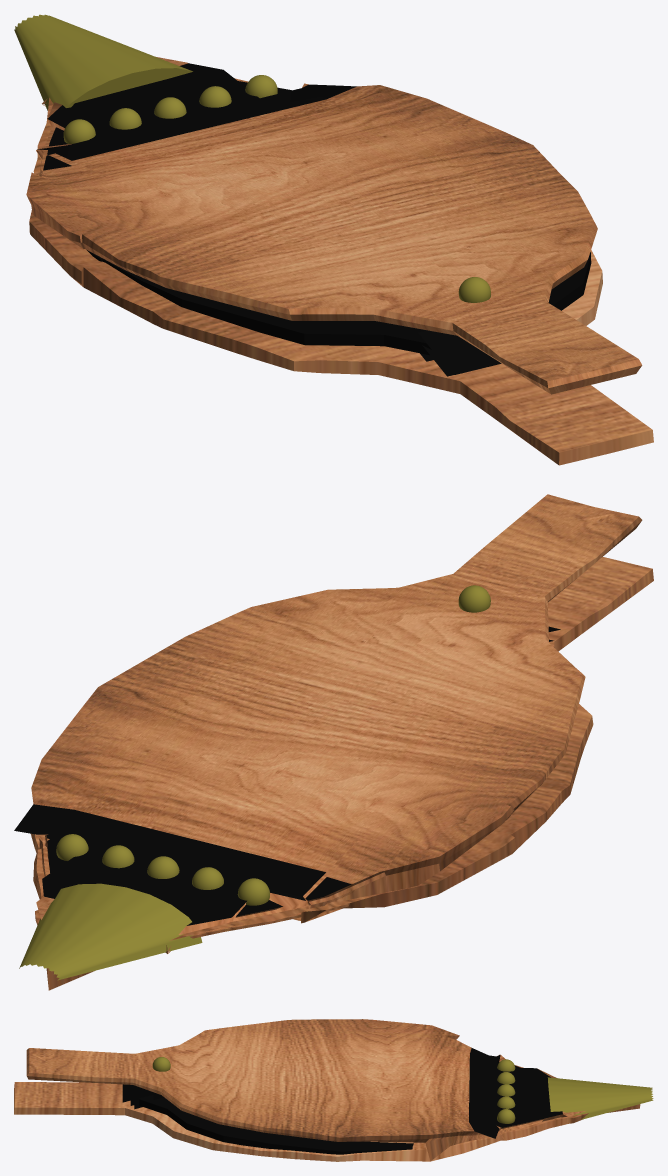
Rendered from fireplace_bellow_close.fbx.
The picture shows the model from 3 angles, top to bottom: view 1: azimuth 30°, elevation 25°; view 2: azimuth 150°, elevation 25°; view 3: azimuth 270°, elevation 25°; orthographic projection. The views are drawn at different scales.
Parts seen in each view (by area): view 1: pPlane16, pCone3, pasted__pPlane8, pPlane28, pSphere12; view 2: pPlane16, pCone3, pSphere12, pSphere8; view 3: pPlane16, pasted__pPlane8, pCone3, pPlane28, pSphere7, pSphere12.
Part boxes in pixels (box(x1,y1,x2,y2)): pPlane16: box(26, 57, 653, 465); pCone3: box(14, 14, 192, 110); pasted__pPlane8: box(87, 250, 591, 355); pPlane28: box(424, 330, 498, 371); pSphere12: box(458, 277, 490, 302); pPlane16: box(14, 494, 653, 990); pCone3: box(19, 883, 202, 980); pSphere12: box(458, 585, 490, 612); pSphere8: box(237, 878, 269, 905); pPlane16: box(14, 1019, 640, 1161); pasted__pPlane8: box(139, 1095, 413, 1154); pCone3: box(547, 1077, 653, 1119); pPlane28: box(122, 1084, 156, 1102); pSphere7: box(497, 1109, 515, 1123); pSphere12: box(152, 1057, 170, 1071).
Size of the model in its own units: 93.39 by 18.76 by 213.
Materials: 5 (1 with a texture image).
